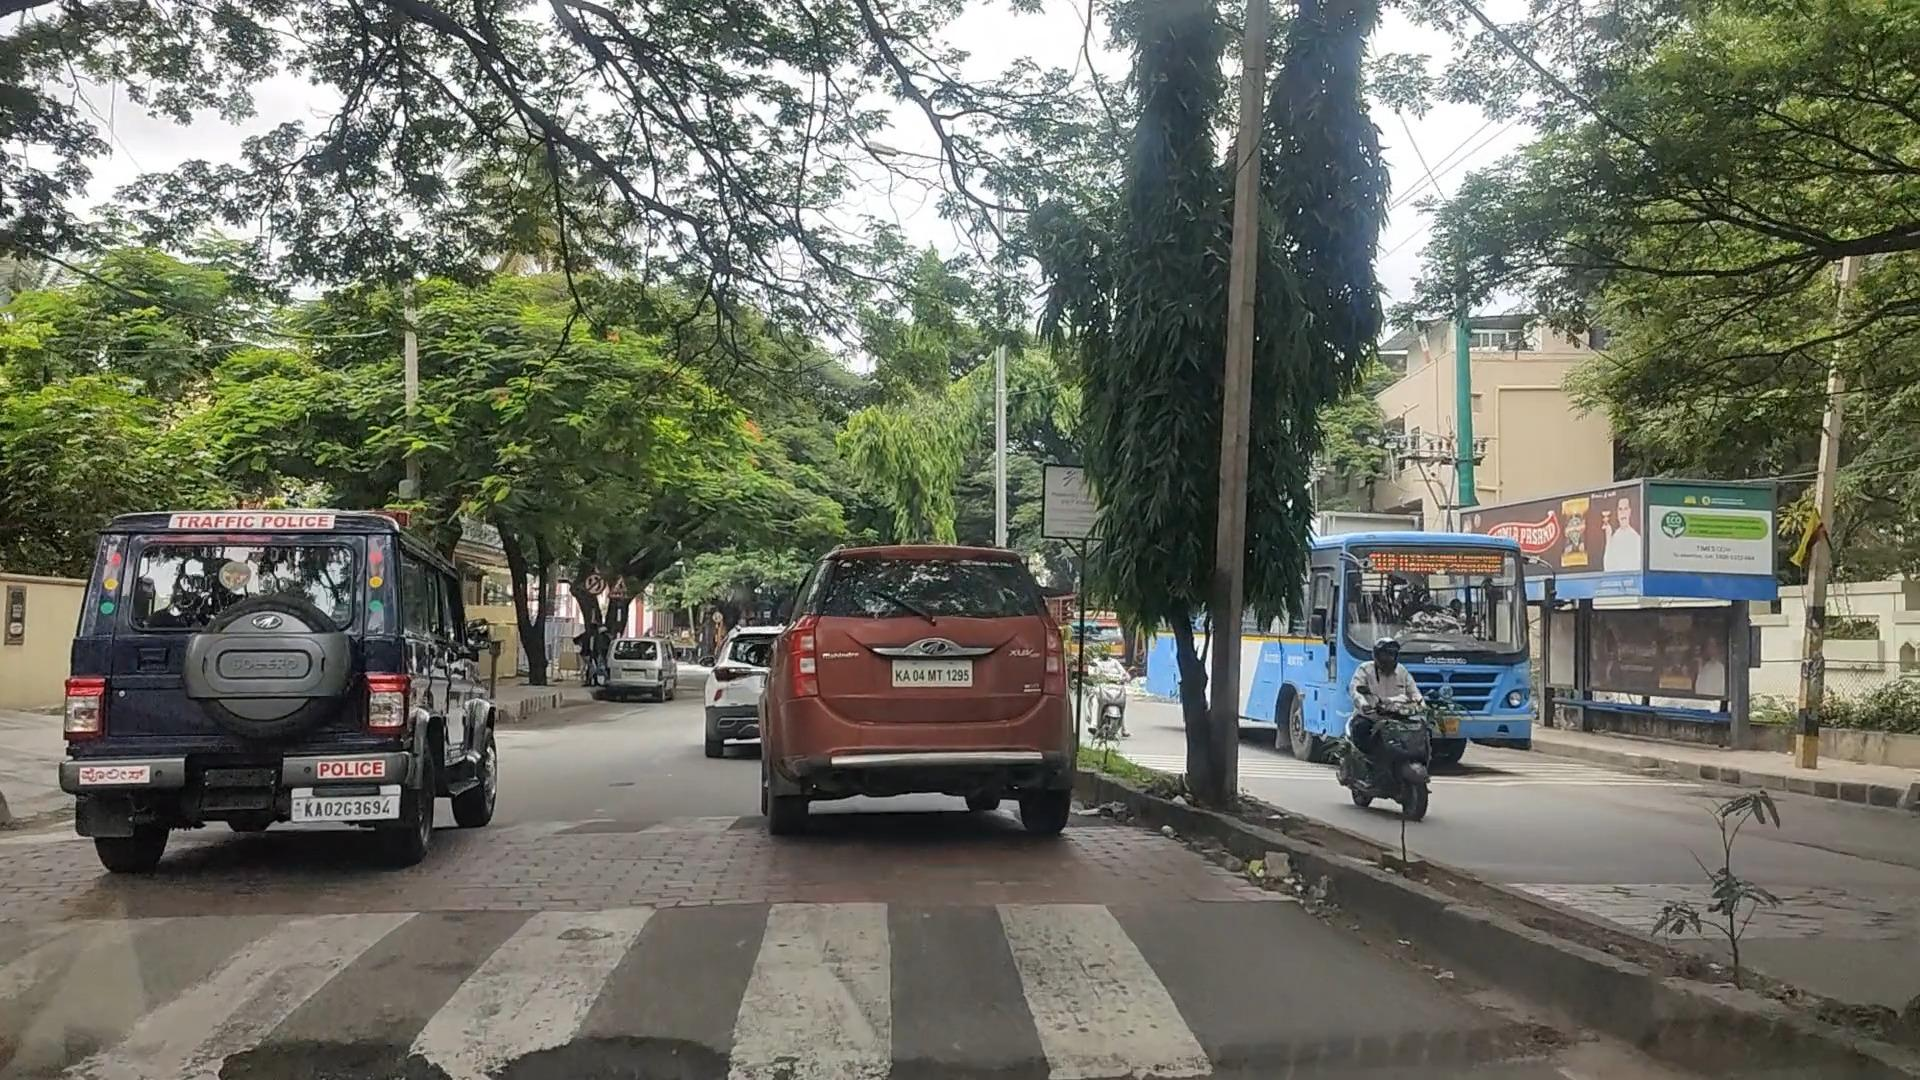LMV: (73, 505, 422, 837), (795, 542, 1065, 840)
RoadDamages: (491, 1022, 723, 1080), (218, 1033, 444, 1080)
SpeedBump: (8, 880, 1404, 1080)
